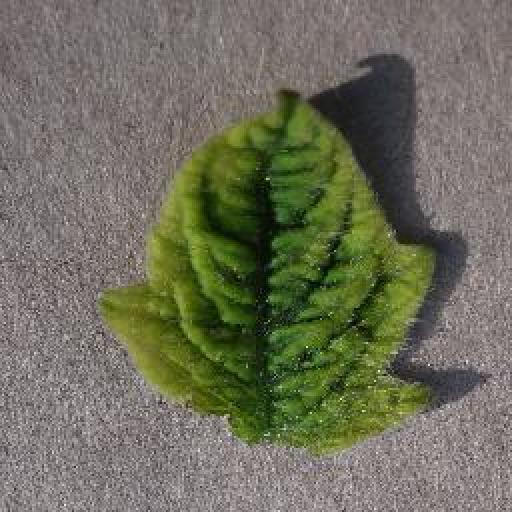disease_tomato: (107, 88, 442, 455)
